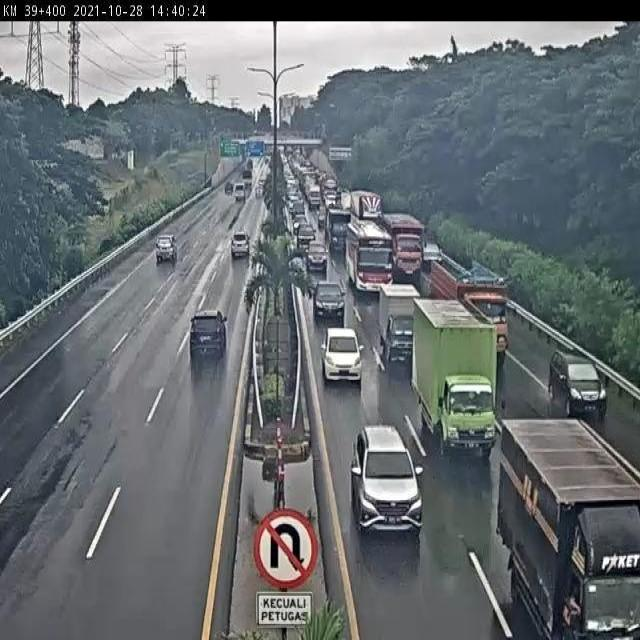Car: (338, 416, 436, 550), (549, 350, 607, 420), (321, 328, 363, 386), (189, 307, 228, 366), (314, 281, 346, 323), (306, 241, 328, 274), (155, 234, 178, 264), (230, 230, 251, 258)
Truck: (498, 418, 638, 638), (410, 299, 498, 457), (427, 252, 509, 354), (259, 418, 309, 505), (376, 283, 420, 374), (344, 216, 391, 297), (379, 213, 425, 287), (460, 267, 509, 307), (427, 258, 463, 304), (244, 260, 272, 313), (326, 203, 351, 252), (348, 190, 384, 224), (286, 276, 305, 336), (287, 256, 309, 294), (262, 450, 280, 483), (302, 176, 320, 208), (299, 162, 316, 194), (296, 223, 316, 250), (104, 142, 128, 164), (87, 282, 114, 300), (307, 268, 325, 294), (322, 178, 338, 205), (85, 139, 105, 160), (288, 247, 306, 270), (286, 191, 302, 216), (292, 213, 308, 237), (328, 146, 352, 162), (254, 155, 268, 182), (339, 192, 352, 221), (284, 177, 298, 202), (253, 261, 268, 282), (292, 138, 322, 148), (317, 172, 330, 194), (214, 131, 230, 147), (233, 182, 246, 201), (200, 309, 220, 321), (270, 140, 286, 154), (38, 160, 60, 170), (266, 155, 276, 176), (338, 186, 350, 203), (314, 112, 322, 135), (318, 209, 327, 229), (285, 146, 296, 162), (243, 180, 252, 198), (242, 163, 252, 179), (254, 142, 266, 155), (320, 122, 328, 141), (279, 134, 294, 144), (257, 177, 265, 195), (281, 152, 289, 170), (248, 149, 262, 159), (167, 234, 177, 248), (239, 141, 247, 157), (294, 146, 304, 158), (281, 118, 291, 130), (204, 150, 208, 180), (203, 176, 212, 189), (246, 158, 254, 172), (225, 181, 233, 194), (497, 276, 507, 286), (339, 286, 346, 297), (264, 154, 271, 164)
